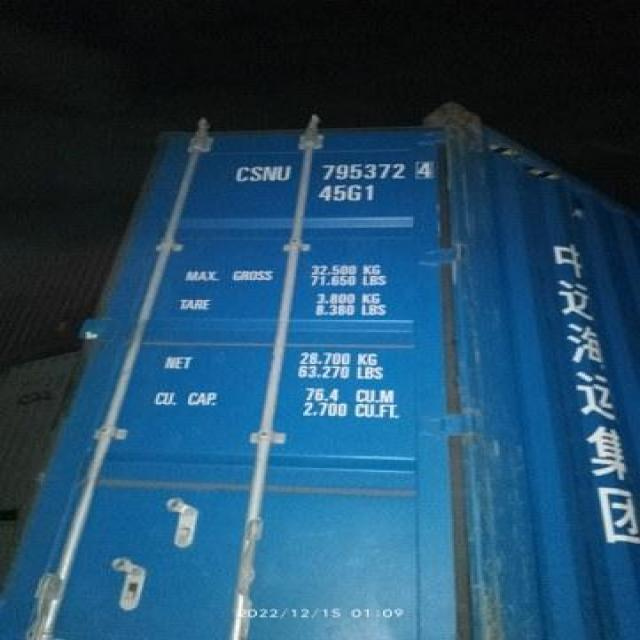container_number_h: (196, 126, 457, 223)
